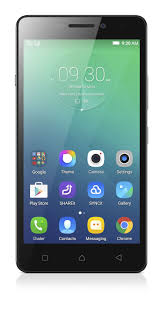lenovo: (13, 13, 149, 276)
